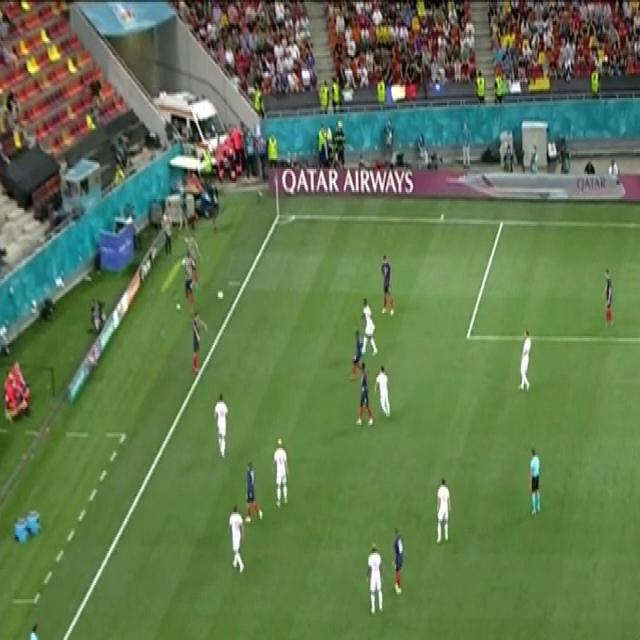Keeper: (529, 447, 541, 515), (28, 622, 40, 640)
another-player: (244, 461, 263, 524), (356, 361, 374, 425), (192, 309, 208, 375), (350, 328, 367, 380), (381, 254, 395, 316), (392, 528, 404, 596), (602, 269, 613, 328)
ball: (216, 288, 224, 302)
player-white: (271, 437, 289, 509), (366, 542, 384, 614), (228, 504, 244, 574), (213, 393, 230, 458), (436, 478, 452, 544), (360, 297, 378, 355), (374, 366, 391, 418), (518, 328, 531, 391)
